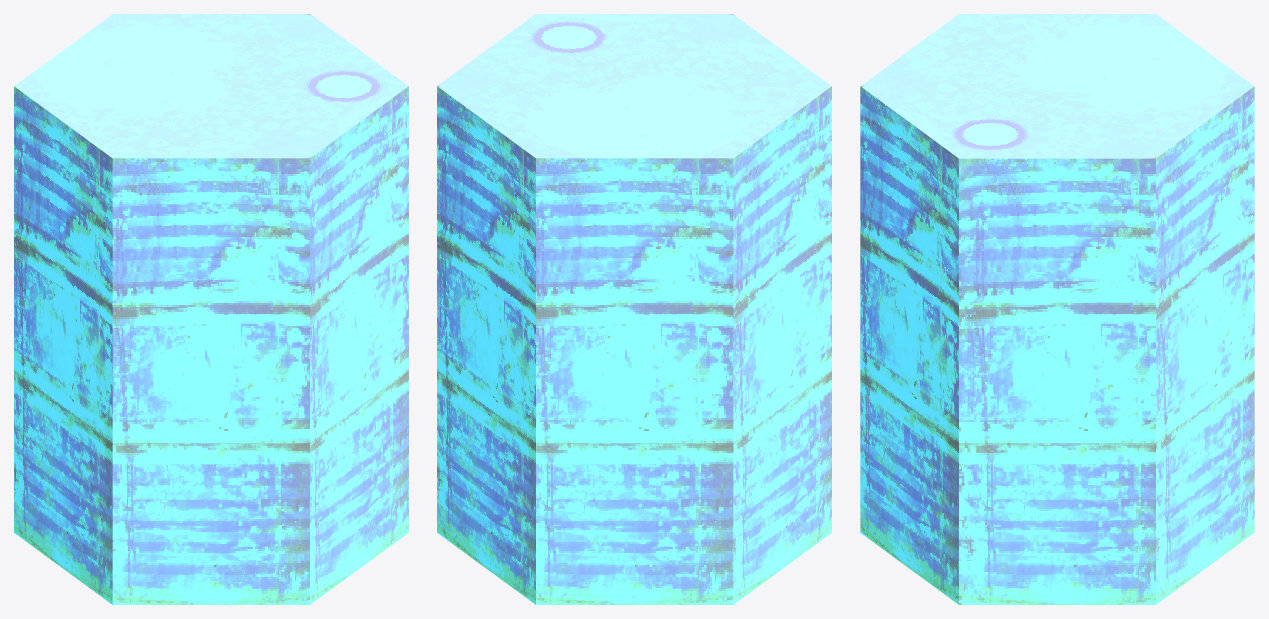
Rendered from barrel_blue.glb.
3 views of the same model, side by side, from view 1: azimuth 30°, elevation 25°; view 2: azimuth 150°, elevation 25°; view 3: azimuth 270°, elevation 25° (orthographic).
Visible parts, largest first — view 1: Barrel_Blue; view 2: Barrel_Blue; view 3: Barrel_Blue.
Part boxes in pixels (x1=…): Barrel_Blue: x1=14, y1=14, x2=408, y2=604; Barrel_Blue: x1=437, y1=14, x2=831, y2=604; Barrel_Blue: x1=860, y1=14, x2=1254, y2=604.
Size of the model in its own units: 0.8065 by 1.16 by 0.9294.
